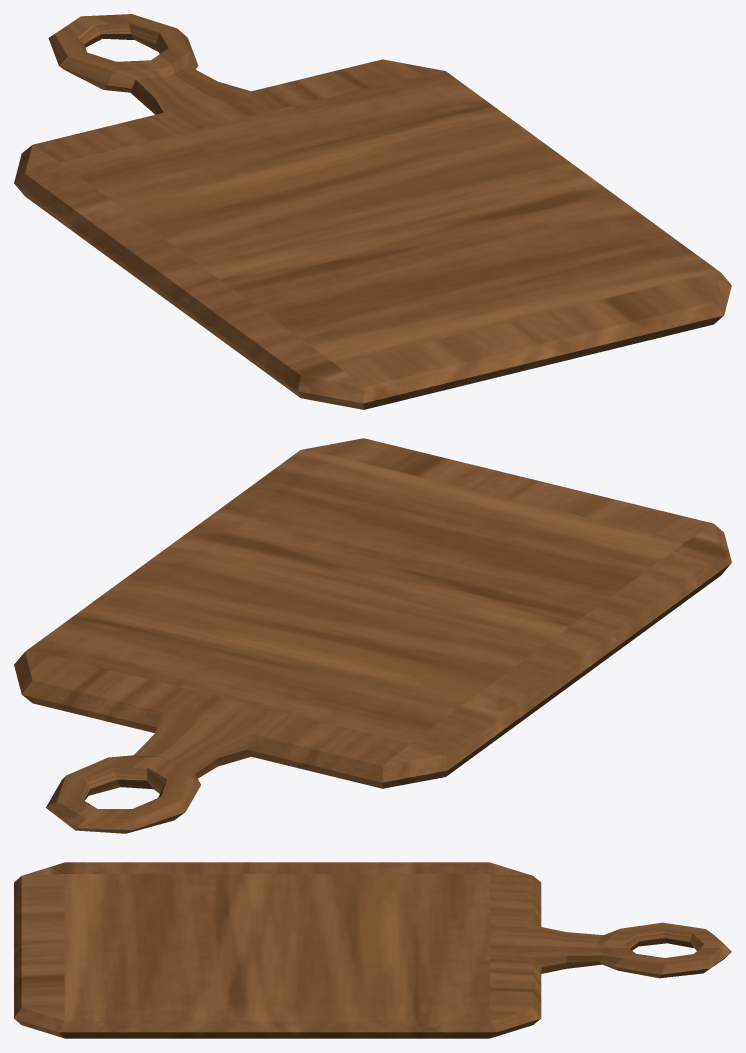
Rendered from Chopping_Board.fbx.
The picture shows the model from 3 angles, top to bottom: view 1: azimuth 30°, elevation 25°; view 2: azimuth 150°, elevation 25°; view 3: azimuth 270°, elevation 25°; orthographic projection. The views are drawn at different scales.
Visible parts, largest first — view 1: Chopping_Board; view 2: Chopping_Board; view 3: Chopping_Board.
Boxes of the visible parts, x1=… form: Chopping_Board: x1=14, y1=14, x2=731, y2=409; Chopping_Board: x1=14, y1=438, x2=731, y2=833; Chopping_Board: x1=14, y1=862, x2=731, y2=1038.
Size of the model in its own units: 130 by 7.83 by 242.
